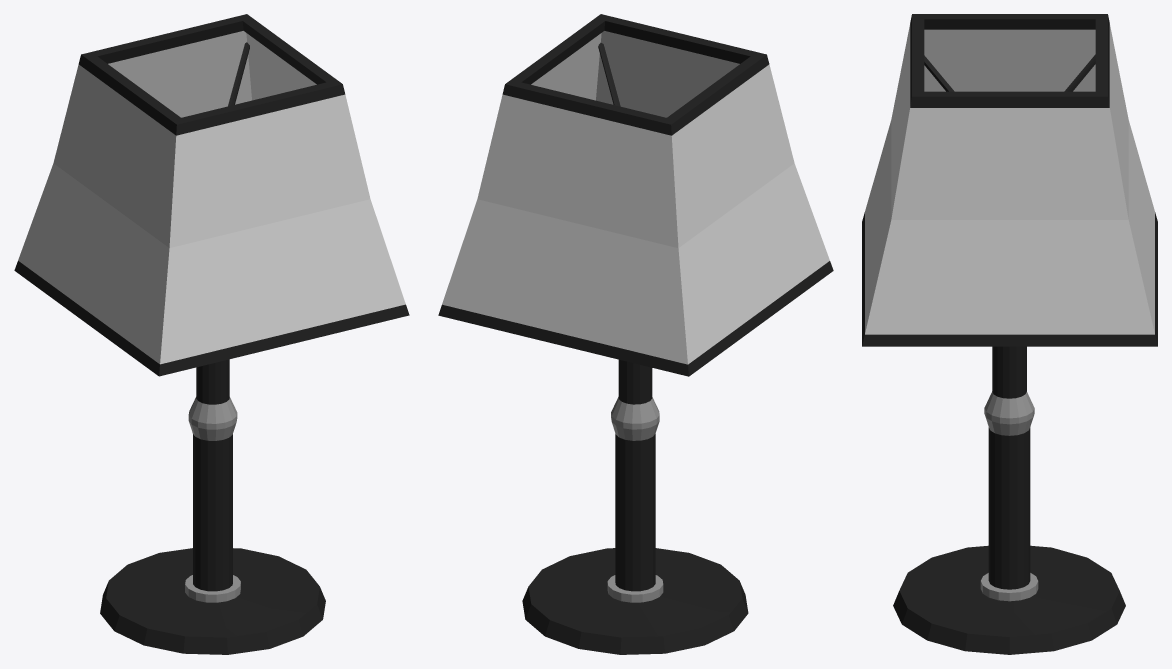
Rendered from Bedroom Lamp.glb.
The picture shows the model from 3 angles, left to right: view 1: azimuth 30°, elevation 25°; view 2: azimuth 150°, elevation 25°; view 3: azimuth 270°, elevation 25°; orthographic projection. The views are drawn at different scales.
Parts seen in each view (by area): view 1: Lamp; view 2: Lamp; view 3: Lamp.
Part boxes in pixels (left/top/right/bottom): Lamp: left=14, top=14, right=409, bottom=654; Lamp: left=438, top=14, right=833, bottom=654; Lamp: left=862, top=14, right=1157, bottom=654.
Bounding box in the file's own units: 0.2669 × 0.5475 × 0.2669.
1 material, 1 textured.
